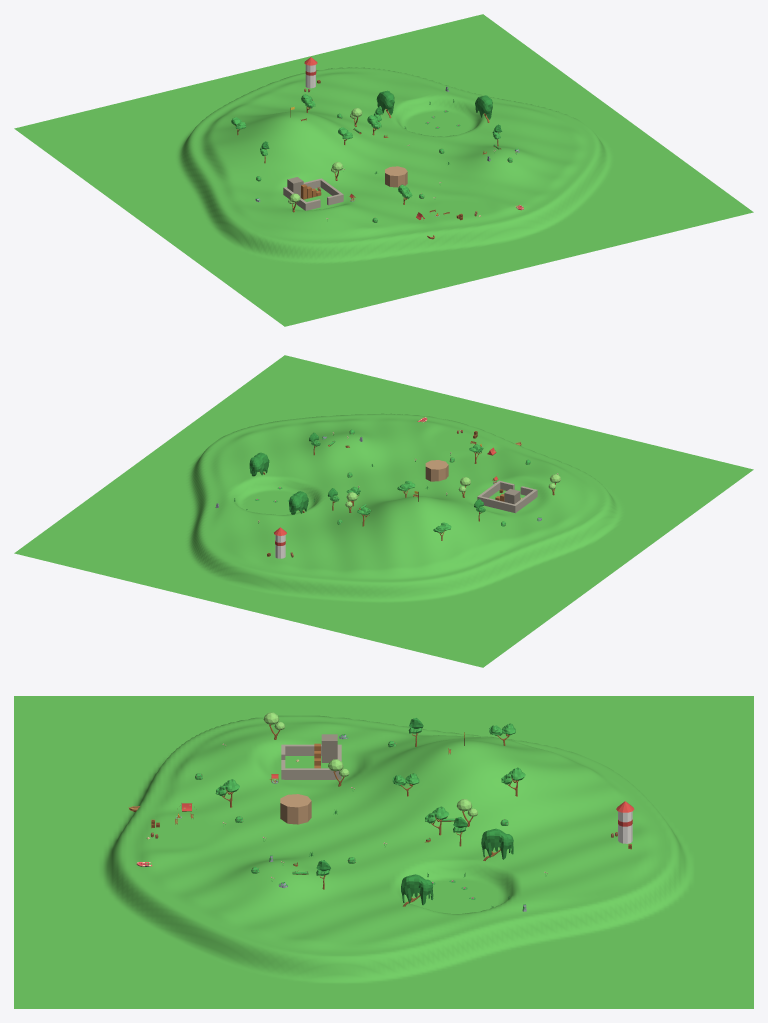
The model's file is level.glb.
3 renders of one model, top to bottom at view 1: azimuth 30°, elevation 25°; view 2: azimuth 150°, elevation 25°; view 3: azimuth 270°, elevation 25°, orthographic. The views are drawn at different scales.
Visible parts, largest first — view 1: ground; view 2: ground; view 3: ground, mesa, Willow_2.001, Willow_2.002, fort wall east.
Boxes of the visible parts, left/top/right/bottom form: ground: left=14, top=14, right=753, bottom=326; ground: left=14, top=355, right=753, bottom=667; ground: left=14, top=696, right=753, bottom=1008; mesa: left=280, top=794, right=311, bottom=824; Willow_2.001: left=481, top=828, right=513, bottom=860; Willow_2.002: left=401, top=874, right=433, bottom=906; fort wall east: left=285, top=768, right=337, bottom=779.
Bounding box in the file's own units: 184 × 21.28 × 184.
